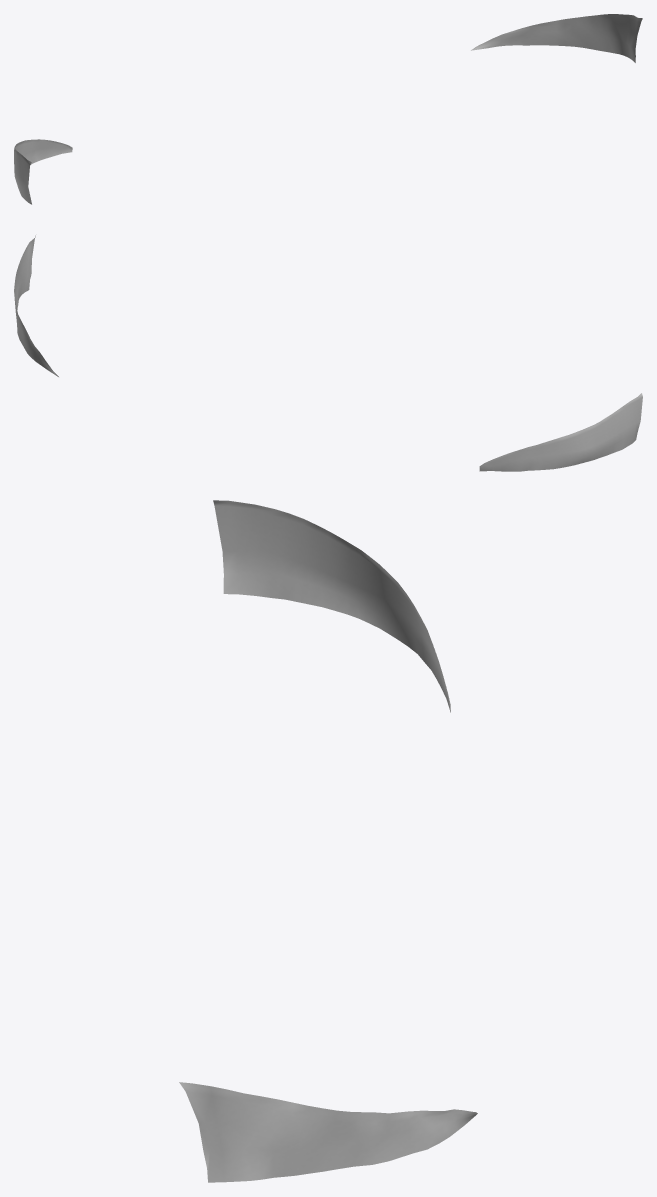
File: Pants_COP_Knee_Back.glb
3 renders of one model, top to bottom at view 1: azimuth 30°, elevation 25°; view 2: azimuth 150°, elevation 25°; view 3: azimuth 270°, elevation 25°, orthographic. The views are drawn at different scales.
Parts seen in each view (by area): view 1: Pants_COP_Knee_Back1; view 2: Pants_COP_Knee_Back1; view 3: Pants_COP_Knee_Back1.
Boxes of the visible parts, x1,y1,x2,y2 form: Pants_COP_Knee_Back1: [14, 14, 642, 204]; Pants_COP_Knee_Back1: [14, 235, 642, 471]; Pants_COP_Knee_Back1: [179, 500, 477, 1182].
Bounding box in the file's own units: 0.7548 × 0.0755 × 0.1618.
2 materials, 2 textured.
